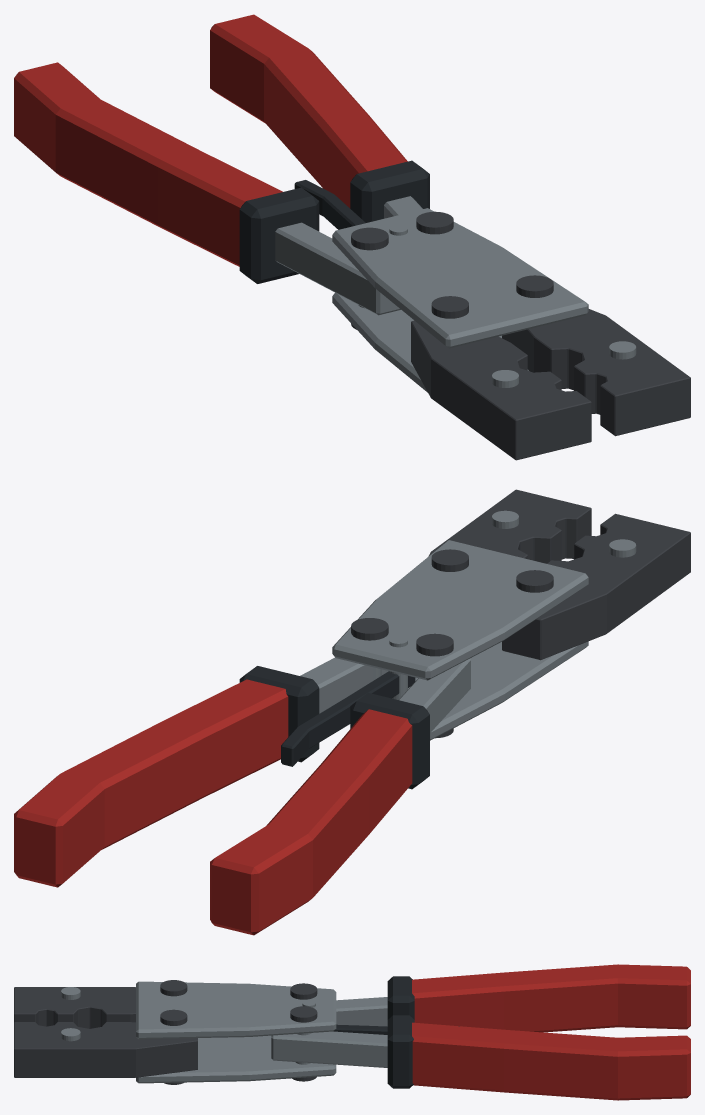
File: full.glb
3 views of the same model, one above another, from view 1: azimuth 30°, elevation 25°; view 2: azimuth 150°, elevation 25°; view 3: azimuth 270°, elevation 25° (orthographic). The views are drawn at different scales.
Parts seen in each view (by area): view 1: Curved red grip -1, Curved red grip 1, Layered compound link cheek 0.009, Fixed two-profile die jaw -1, Fixed two-profile die jaw 1, Long metal handle -1, Finger stop -1, Finger stop 1, Layered compound link cheek -0.009, Narrow dark inner lever, Round pivot retaining head (2, 0.012), Round pivot retaining head (3, 0.012) (+2 smaller); view 2: Curved red grip 1, Curved red grip -1, Layered compound link cheek 0.009, Fixed two-profile die jaw -1, Fixed two-profile die jaw 1, Layered compound link cheek -0.009, Narrow dark inner lever, Finger stop -1, Long metal handle -1, Finger stop 1, Long metal handle 1, Round pivot retaining head (1, 0.012) (+3 smaller); view 3: Curved red grip 1, Curved red grip -1, Layered compound link cheek 0.009, Fixed two-profile die jaw 1, Layered compound link cheek -0.009, Fixed two-profile die jaw -1, Long metal handle 1, Finger stop 1, Long metal handle -1, Finger stop -1, Narrow dark inner lever, Round pivot retaining head (3, 0.012) (+4 smaller).
Boxes of the visible parts, x1,y1,x2,y2 form: Curved red grip -1: (14,62,282,266); Curved red grip 1: (210,14,407,208); Layered compound link cheek 0.009: (332,208,588,348); Fixed two-profile die jaw -1: (411,320,591,460); Fixed two-profile die jaw 1: (502,309,690,436); Long metal handle -1: (275,222,400,315); Finger stop -1: (239,187,319,283); Finger stop 1: (350,160,429,222); Layered compound link cheek -0.009: (332,292,528,392); Narrow dark inner lever: (294,180,365,229); Round pivot retaining head (2, 0.012): (351,227,388,250); Round pivot retaining head (3, 0.012): (416,211,453,234); Curved red grip 1: (14,679,288,887); Curved red grip -1: (210,709,412,935); Layered compound link cheek 0.009: (332,540,588,680); Fixed two-profile die jaw -1: (502,513,690,660); Fixed two-profile die jaw 1: (428,489,591,563); Layered compound link cheek -0.009: (408,641,588,740); Narrow dark inner lever: (281,671,415,766); Finger stop -1: (350,693,429,789); Long metal handle -1: (399,658,470,732); Finger stop 1: (239,666,319,762); Long metal handle 1: (300,657,388,713); Round pivot retaining head (1, 0.012): (431,549,468,571); Curved red grip 1: (412,1022,690,1100); Curved red grip -1: (412,964,690,1032); Layered compound link cheek 0.009: (136,981,336,1039); Fixed two-profile die jaw 1: (14,1022,197,1077); Layered compound link cheek -0.009: (136,1035,336,1083); Fixed two-profile die jaw -1: (14,987,135,1028); Long metal handle 1: (271,1031,387,1067); Finger stop 1: (387,1015,414,1088); Long metal handle -1: (336,997,387,1026); Finger stop -1: (387,976,414,1019); Narrow dark inner lever: (334,1024,459,1034); Round pivot retaining head (3, 0.012): (290,1006,317,1022).
Size of the model in its own units: 0.079 by 0.026 by 0.25.
